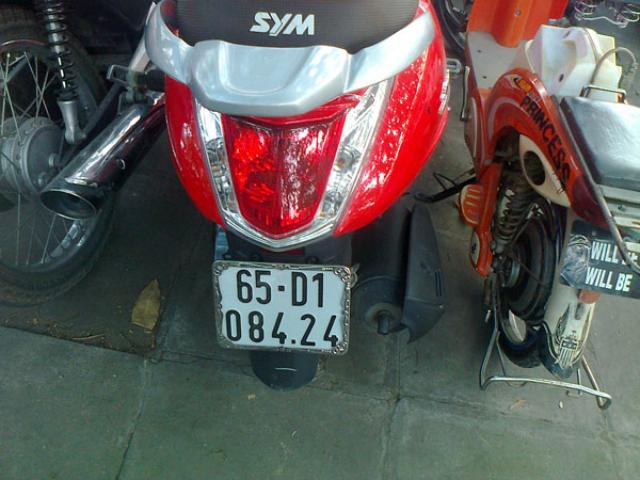plate: (218, 264, 344, 350)
